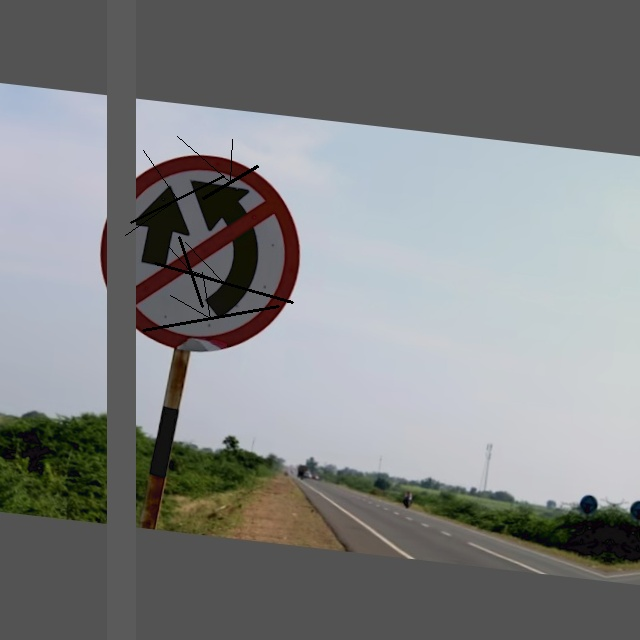Overtaking_Prohibited: (92, 144, 308, 364)
